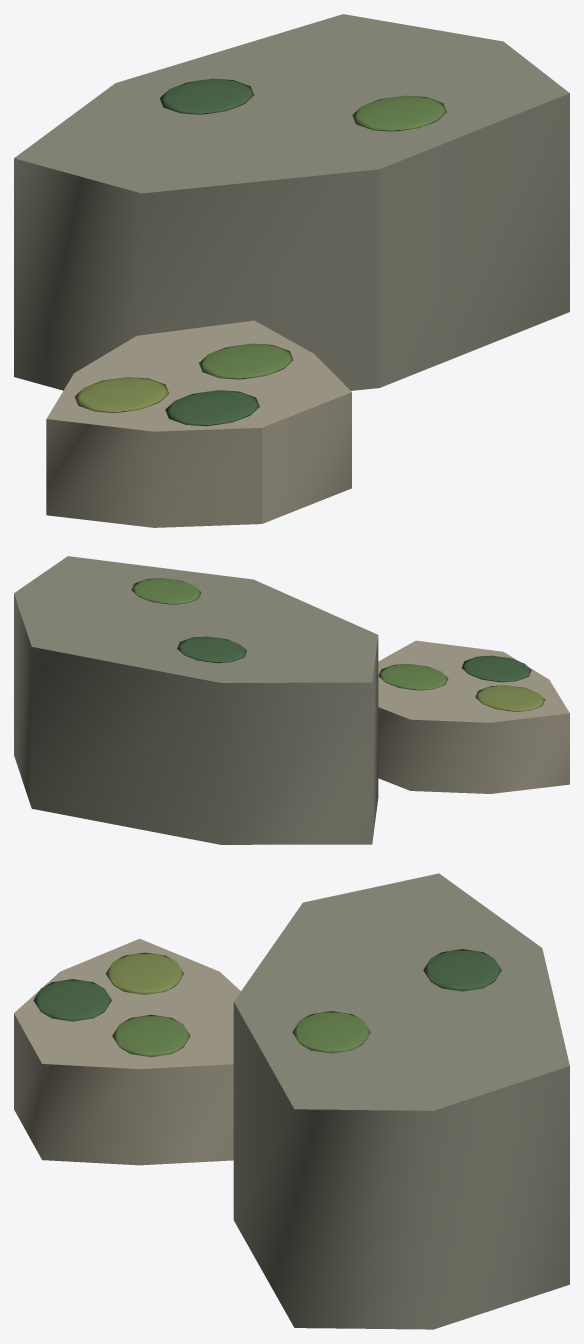
3 views of the same model, one above another, from view 1: azimuth 30°, elevation 25°; view 2: azimuth 150°, elevation 25°; view 3: azimuth 270°, elevation 25° (orthographic). The views are drawn at different scales.
Parts seen in each view (by area): view 1: climb-rocks-6-0, climb-rocks-6-1, 바위 07; view 2: climb-rocks-6-0, climb-rocks-6-1, 바위 07; view 3: climb-rocks-6-0, climb-rocks-6-1, 바위 07.
Part boxes in pixels (x1,y1,x2,y2): climb-rocks-6-0: (14, 14, 569, 390); climb-rocks-6-1: (46, 320, 351, 527); 바위 07: (74, 78, 446, 426); climb-rocks-6-0: (14, 556, 378, 844); climb-rocks-6-1: (378, 640, 569, 793); 바위 07: (131, 578, 545, 711); climb-rocks-6-0: (233, 873, 569, 1329); climb-rocks-6-1: (14, 938, 240, 1165); 바위 07: (33, 949, 501, 1057).
Bounding box in the file's own units: 3.19 × 1.14 × 2.54.
